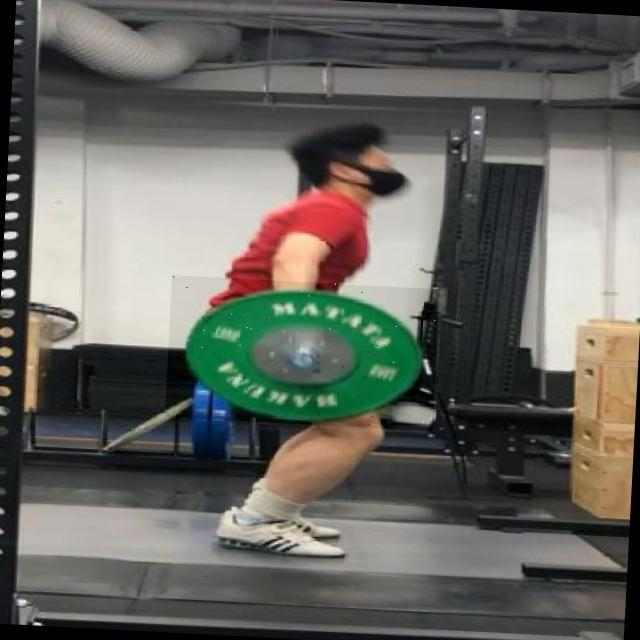barbell: (166, 276, 441, 432)
